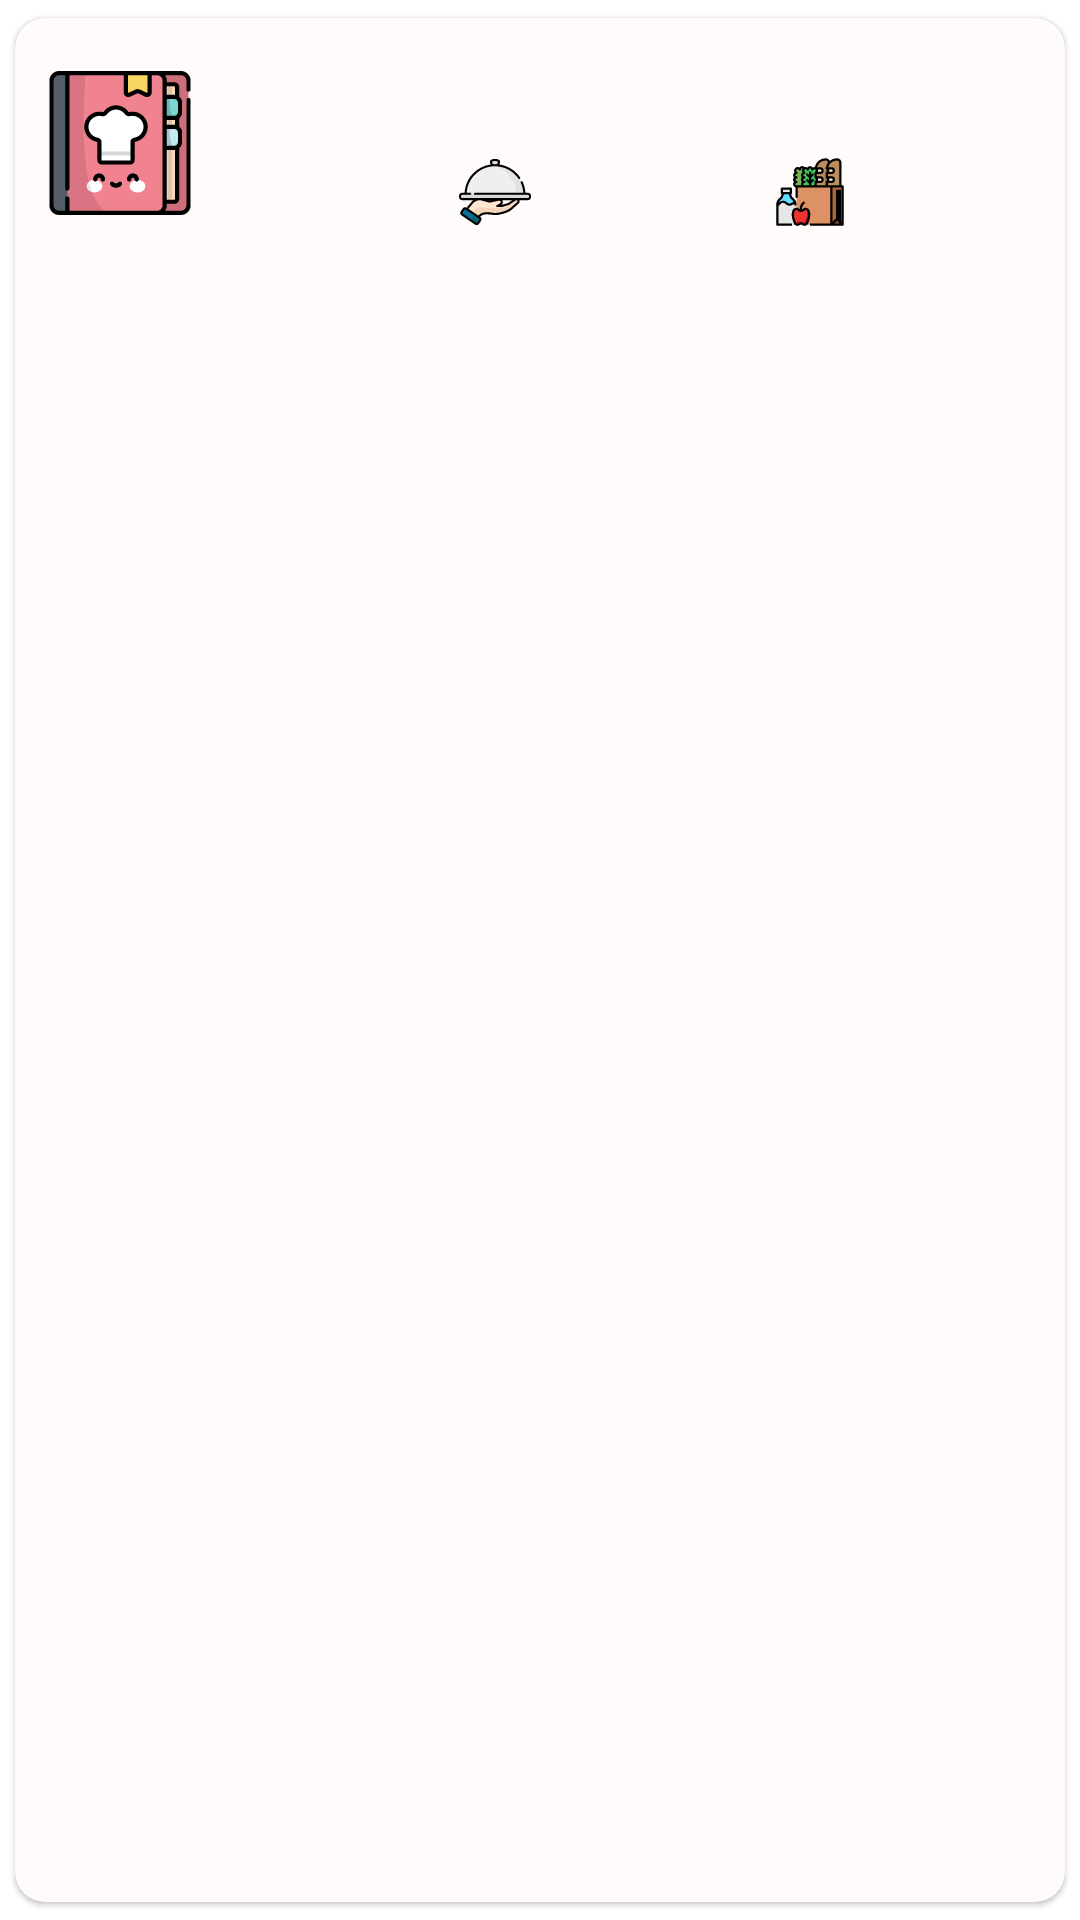

Named icons in this screenshot (1080px x 1920px) and their bounding boxes, rect(x1, y1, x2, y2):
recipe book: rect(49, 71, 191, 215)
